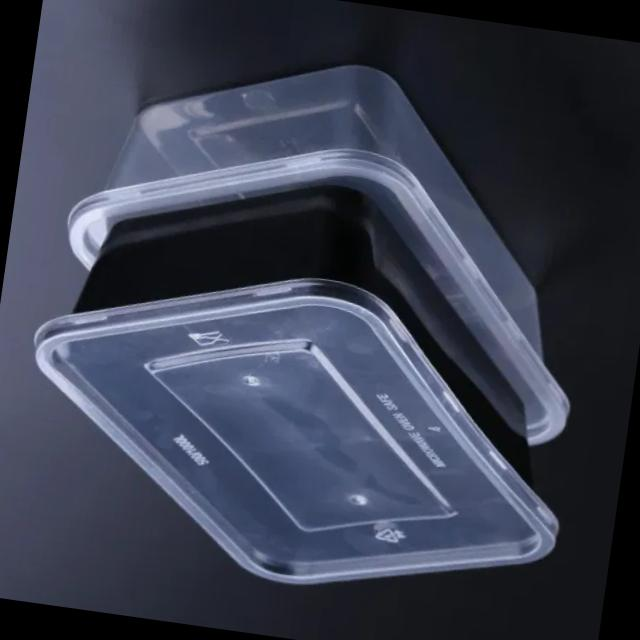plastic_box: (0, 168, 583, 616), (39, 37, 594, 460)
